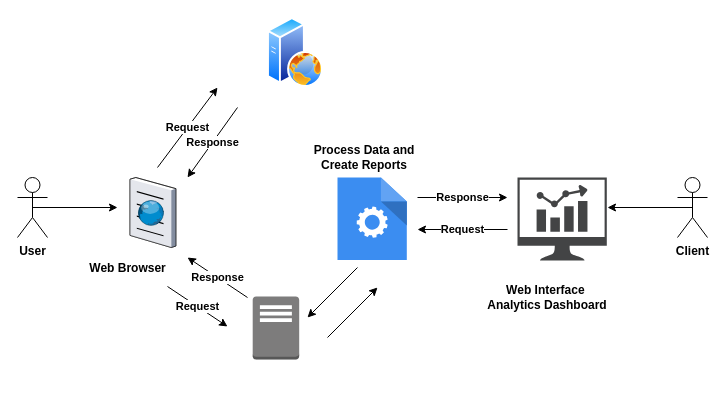
Some shapes in this 726 by 412 pixel diagram are drawn without their labels. Here are the shapes that lost their labels. From the top down, the box of each, then its label:
(267, 17, 323, 87): Client's Web Server
(252, 296, 299, 360): Google Analytics Server
